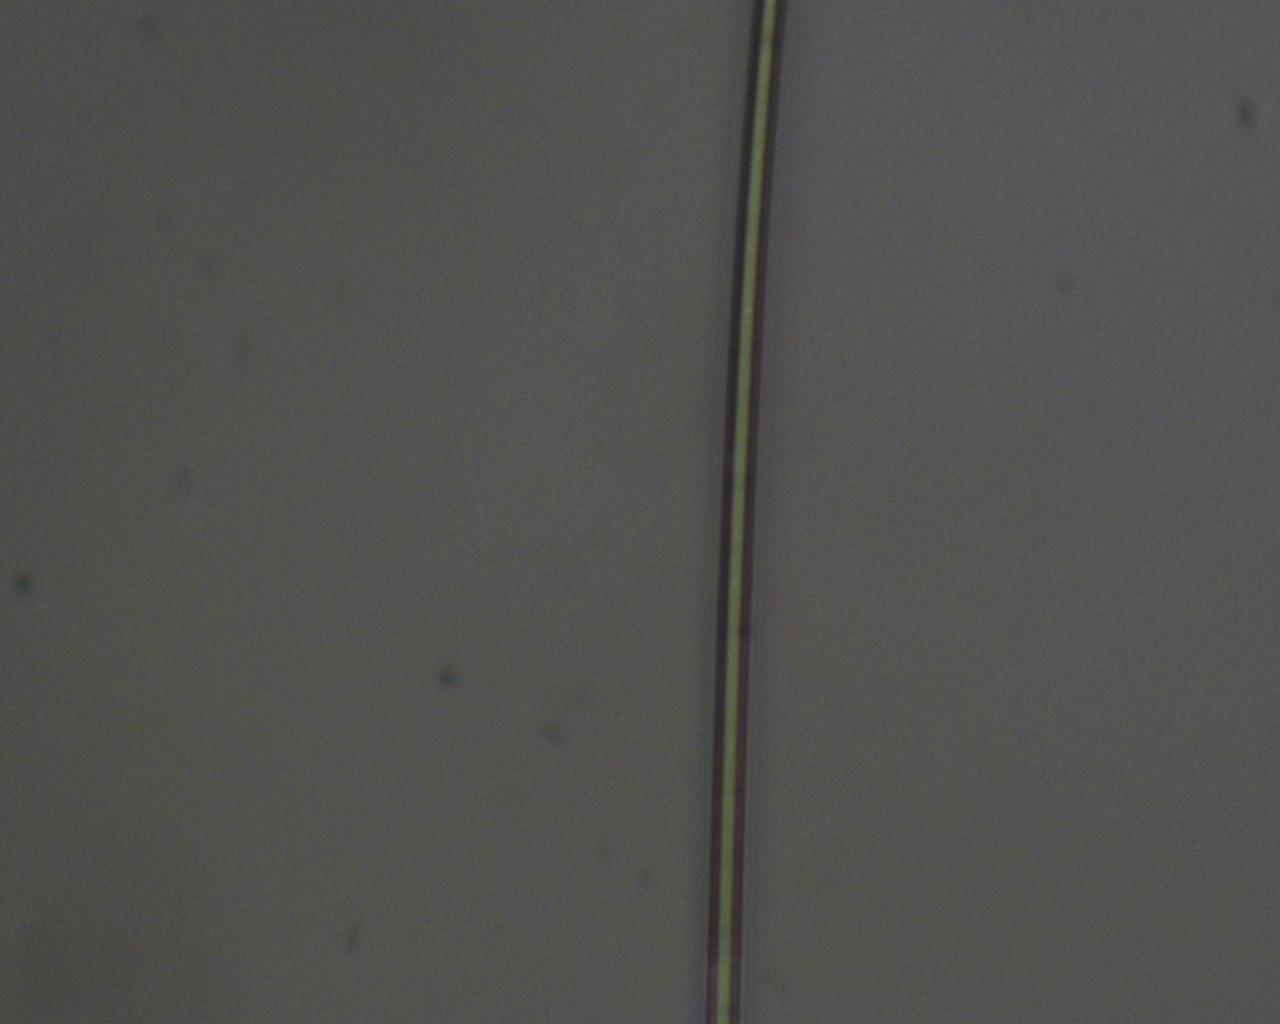fiber: (128, 189, 1152, 723)
